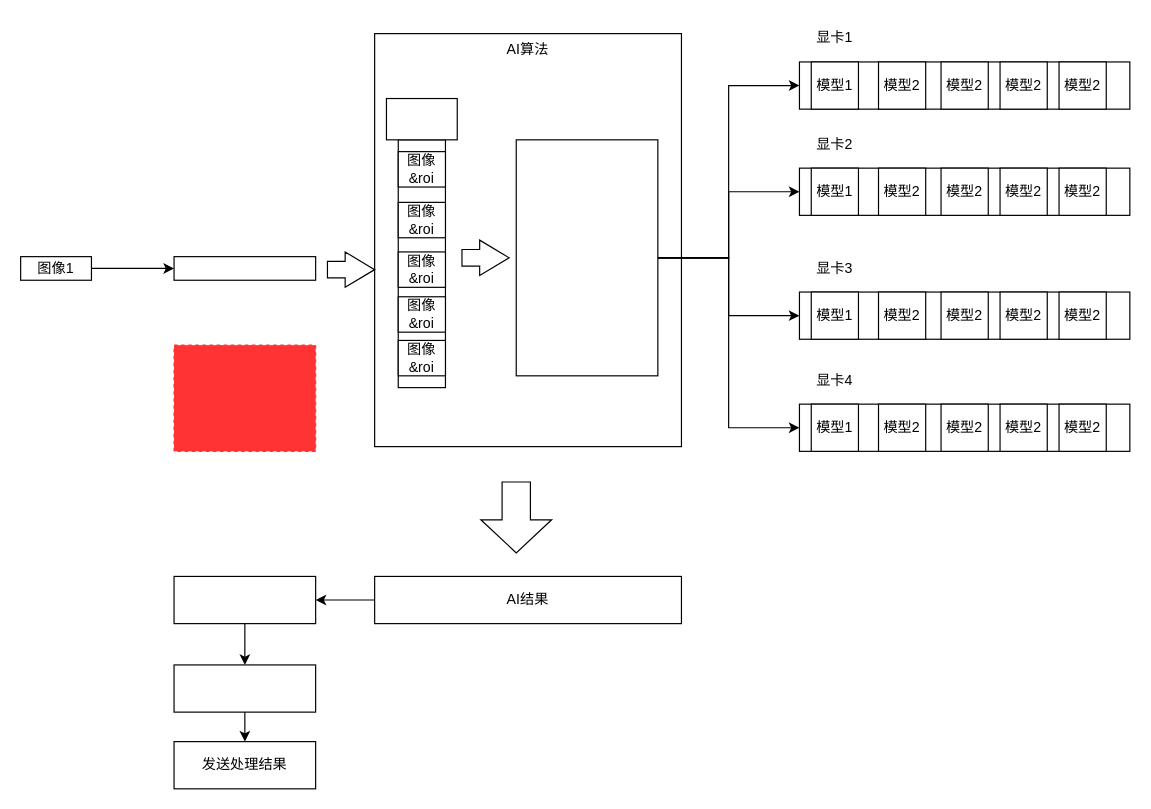
This 1151x809 diagram has some shape labels left out. The shapes that lost their labels are listed below. From the top down, each one's centre as x and y in pixels, then its label:
the point at 421,118: GPU队列
the point at 244,267: 定位分割
the point at 586,257: 执行器/调度器
the point at 244,397: 算法直接返回，通过注册机制将后续执行过程交由AI的结果进行触发
the point at 244,599: 异步获取AI结果
the point at 244,688: AI后置算法
